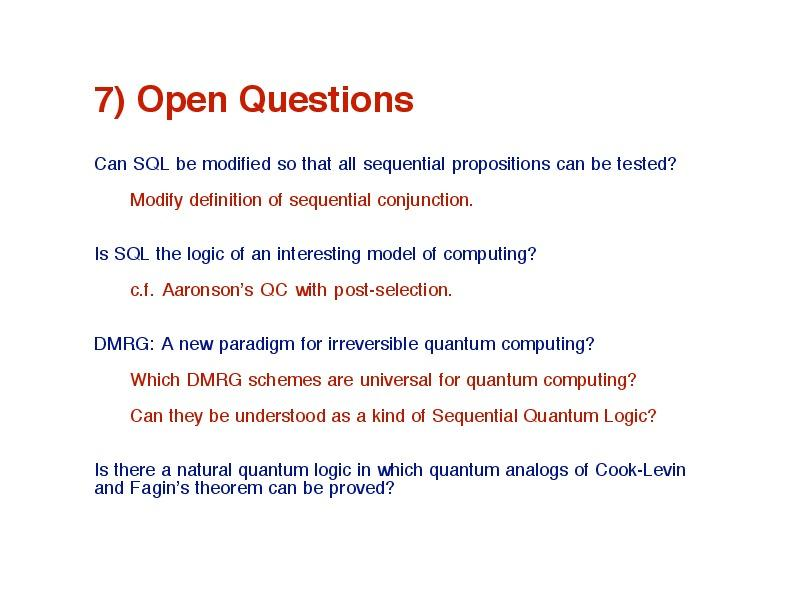paragraph: (88, 144, 721, 516)
title: (133, 73, 430, 125)
